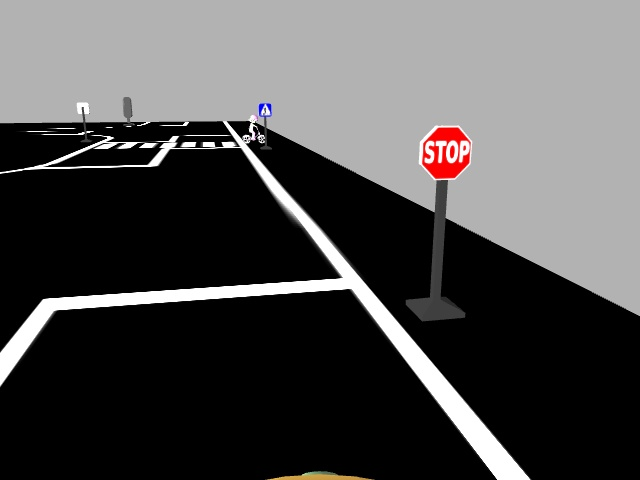Stop: (414, 126, 473, 181)
